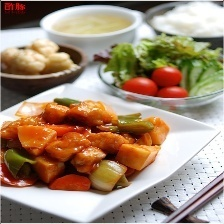sabzi: (0, 97, 169, 194)
